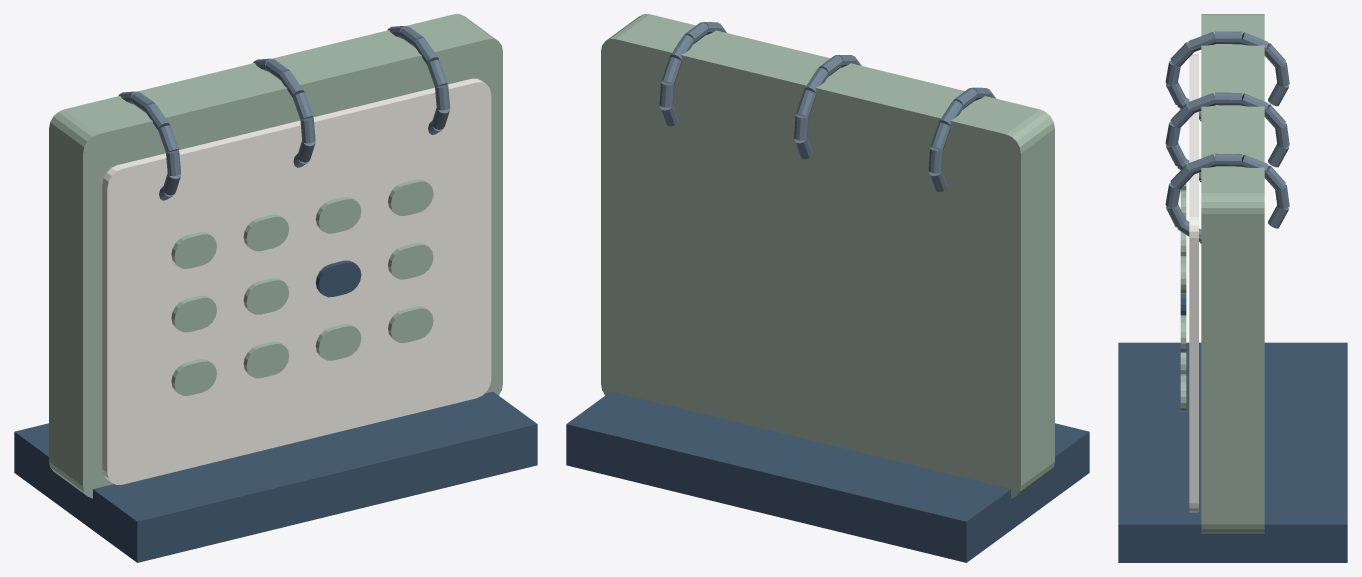
The model's file is deskcalendar.glb.
3 views of the same model, side by side, from view 1: azimuth 30°, elevation 25°; view 2: azimuth 150°, elevation 25°; view 3: azimuth 270°, elevation 25° (orthographic). The views are drawn at different scales.
Parts seen in each view (by area): view 1: calendar page, binding board, rear foot, day 1, day 9, day 4, marked date, day 3, day 5, day 11, day 0, day 7 (+3 smaller); view 2: binding board, rear foot; view 3: rear foot, binding board, calendar page, loop16, loop06, loop26, loop15, loop25, loop05, loop04, loop14, loop24 (+3 smaller).
Boxes of the visible parts, box(x1,y1,x2,y2) form: calendar page: box(102, 78, 491, 484); binding board: box(49, 14, 502, 498); rear foot: box(14, 391, 537, 562); day 1: box(243, 214, 289, 251); day 9: box(243, 341, 289, 378); day 4: box(171, 295, 216, 332); marked date: box(316, 260, 361, 297); day 3: box(388, 179, 433, 215); day 5: box(243, 278, 289, 314); day 11: box(388, 306, 433, 342); day 0: box(171, 232, 216, 268); day 7: box(388, 243, 433, 279); binding board: box(601, 14, 1054, 498); rear foot: box(566, 391, 1089, 562); rear foot: box(1118, 342, 1347, 562); binding board: box(1201, 14, 1264, 533); calendar page: box(1189, 54, 1198, 512); loop16: box(1215, 92, 1241, 105); loop06: box(1215, 31, 1241, 44); loop26: box(1215, 153, 1241, 166); loop15: box(1188, 93, 1215, 113); loop25: box(1188, 154, 1215, 174); loop05: box(1188, 32, 1215, 52); loop04: box(1170, 42, 1193, 66); loop14: box(1170, 103, 1193, 127); loop24: box(1170, 164, 1193, 188).
Size of the model in its own units: 1.28 by 1.18 by 0.65.
